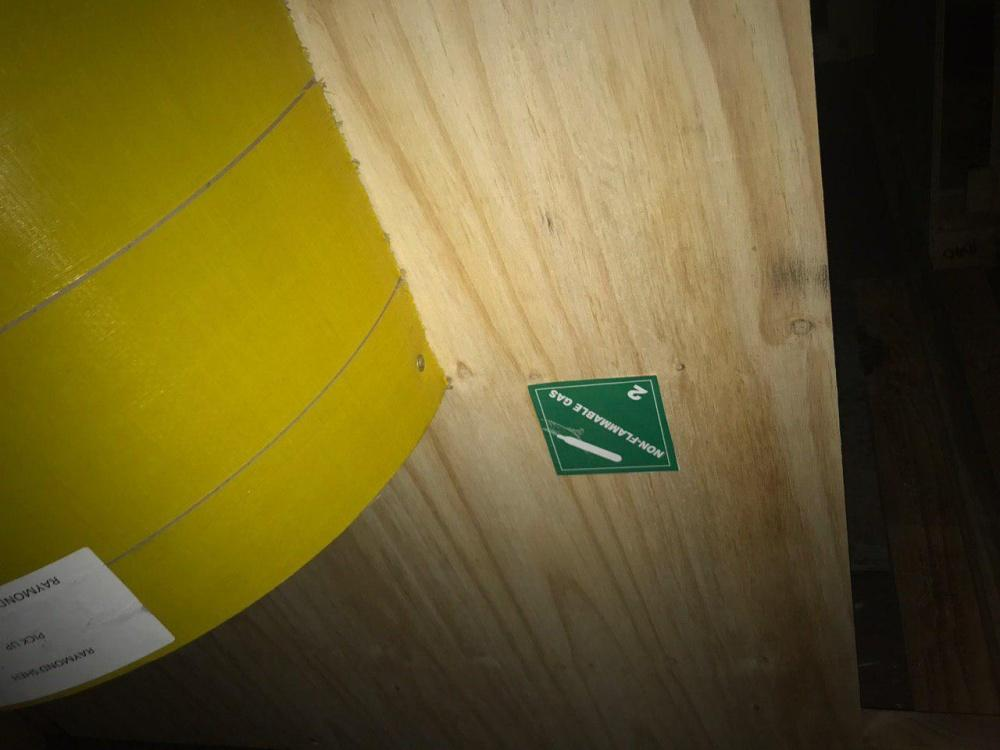non-flammable-gas: (527, 374, 679, 477)
